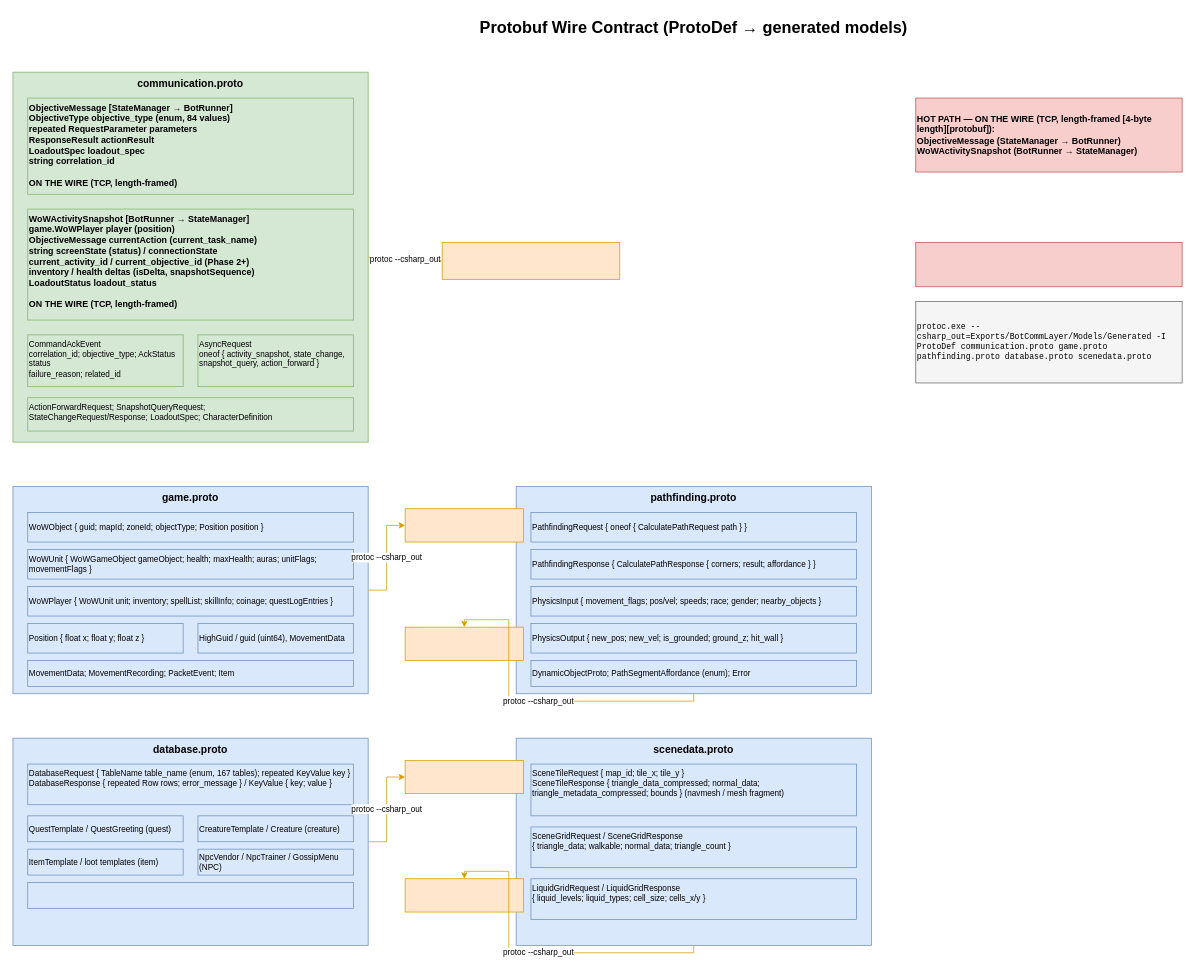
The diagram is 1195 pixels wide and 972 high, and some of its shapes have lost their labels. Each missing label, with the centre of its shape:
"GameObject / GameObjectTemplate; Faction; AreaTemplate; GameTele" belongs at point (190, 895).
"Generated C# is auto-generated — DO NOT hand-edit. Edit the .proto + regenerate." belongs at point (1048, 264).
"Generated/Communication.cs" belongs at point (530, 260).
"Generated/Database.cs" belongs at point (464, 777).
"Generated/Game.cs" belongs at point (464, 525).
"Generated/Pathfinding.cs" belongs at point (464, 643).
"Generated/Scenedata.cs" belongs at point (464, 895).
